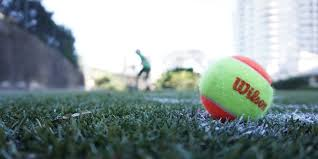tennis_ball: (200, 54, 275, 126)
